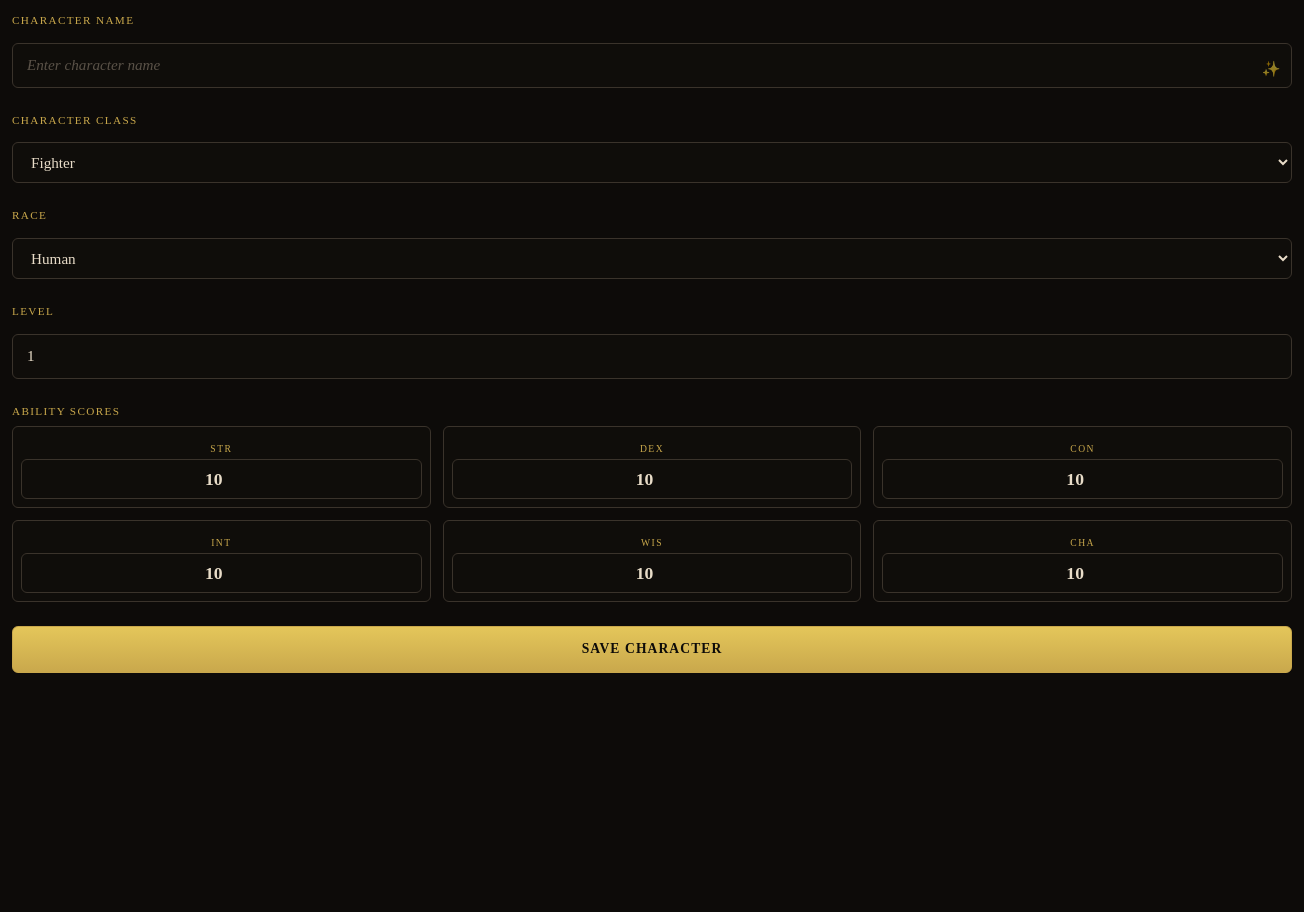
Test case: CharacterCreationForm › validation › shows required error when name is empty on submit
Click the button "Save Character". click: (652, 650)
box: 12,626 -> 1292,673
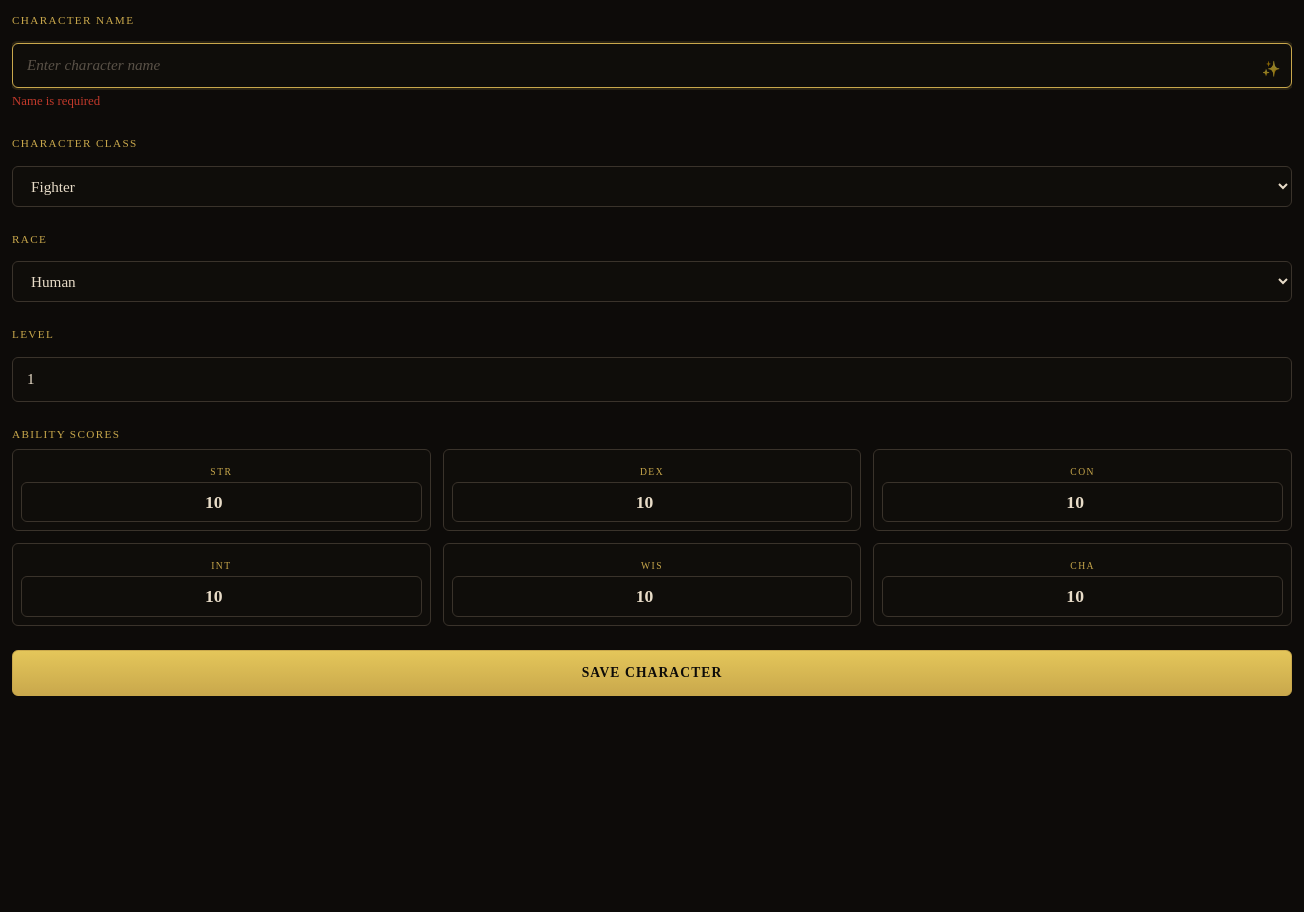
Result: the text "Name is required" is shown at 12,94 -> 100,108
